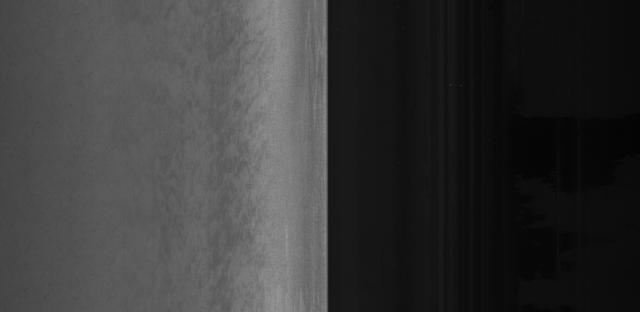silk_spot: (180, 42, 294, 250)
